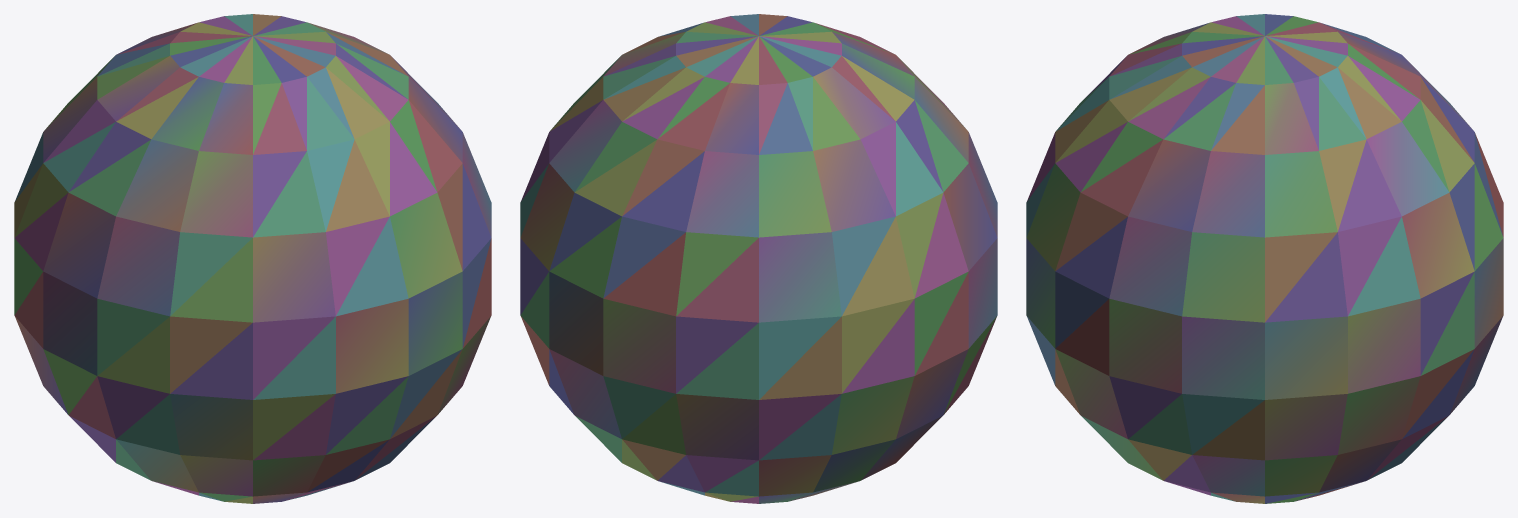
Rendered from sphereC.obj.
The picture shows the model from 3 angles, left to right: view 1: azimuth 30°, elevation 25°; view 2: azimuth 150°, elevation 25°; view 3: azimuth 270°, elevation 25°; orthographic projection.
Size of the model in its own units: 1.97 by 2 by 1.94.
